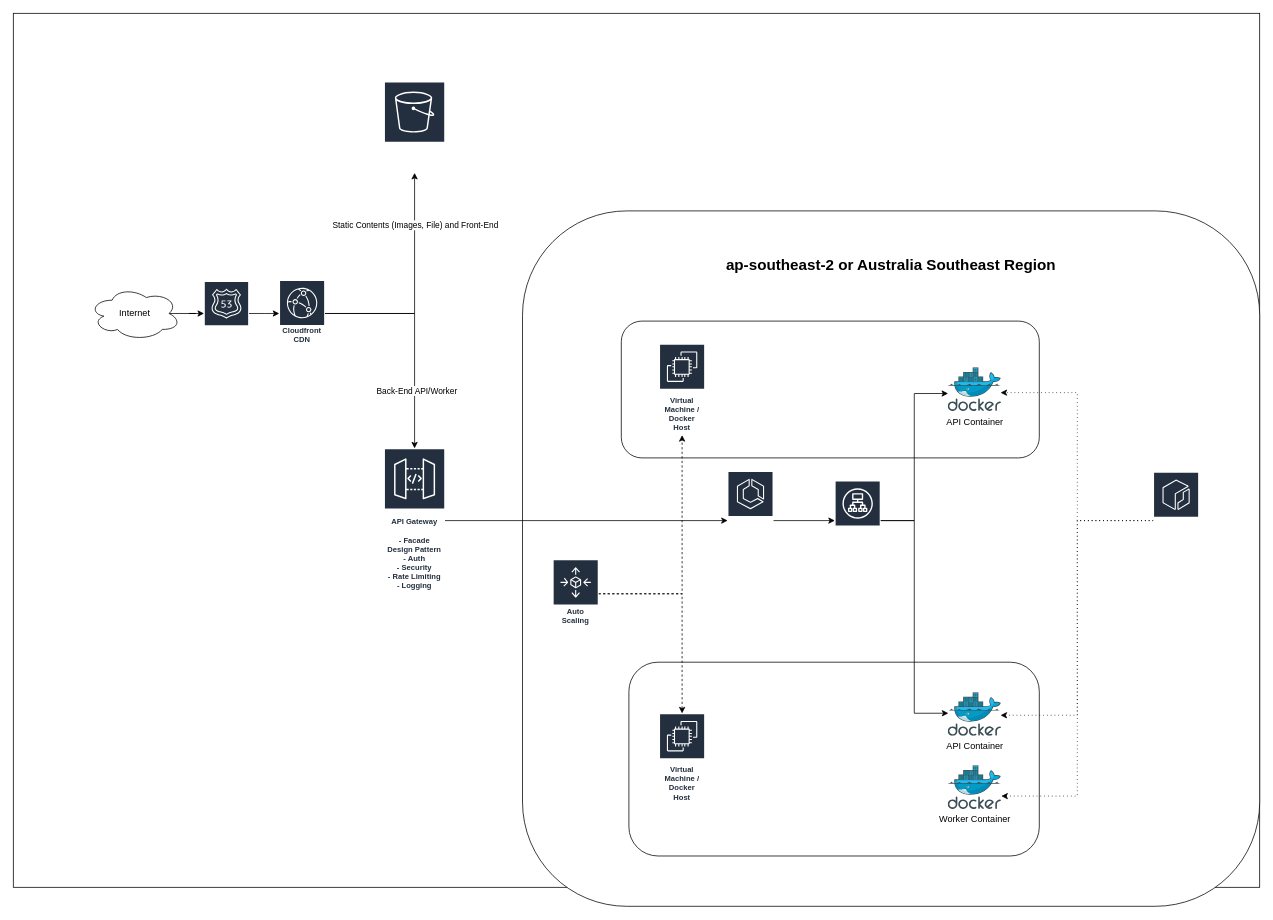
Some shapes in this 1273 by 920 pixel diagram are drawn without their labels. The shapes that lost their labels are listed below. From the top down, each one's centre as x and y in pixels, then its label:
(414,127): Amazon S3 Storage / File Storage
(226,313): DNS Server
(750,520): Amazon ECS Container Orchestration (Similar to Kubernates)
(857,520): Application Load Balancer
(1176,520): Docker Container Repository (Similar to DockerHub)
